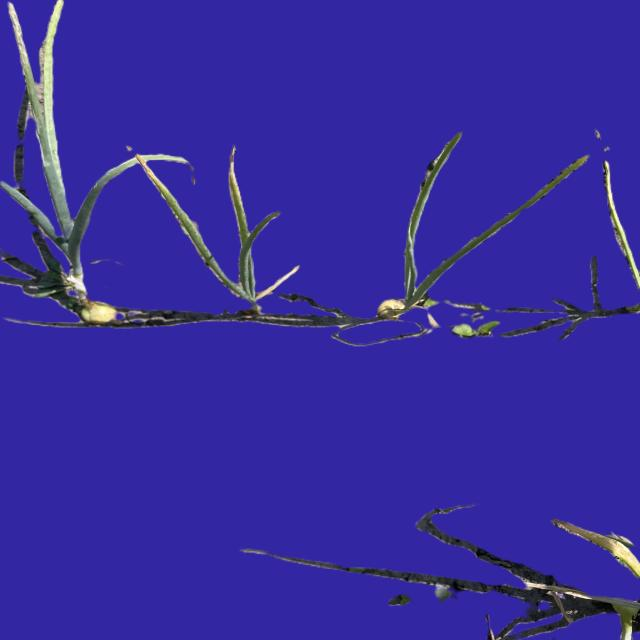Onion: (370, 125, 590, 327), (4, 0, 126, 325), (140, 131, 282, 325)
